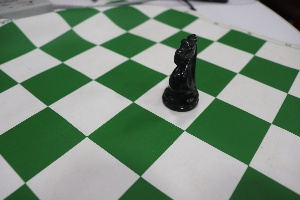black_horse: (158, 22, 207, 121)
